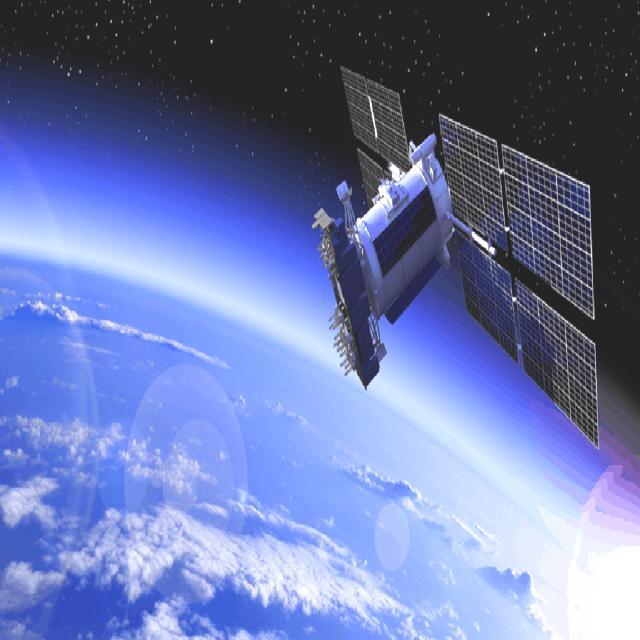satellite: (303, 49, 613, 467)
